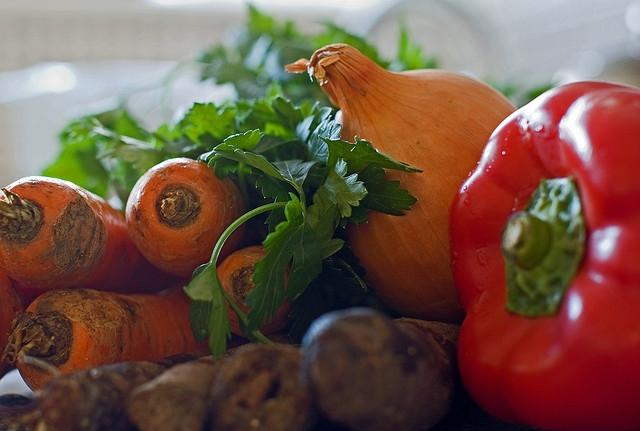bell pepper: (446, 80, 640, 430)
carrot: (1, 280, 212, 392), (0, 176, 184, 293), (126, 156, 246, 276), (216, 246, 294, 338), (0, 271, 51, 380)
onion: (284, 42, 519, 326)
potato: (300, 307, 502, 430), (123, 343, 258, 431), (210, 343, 328, 431), (34, 360, 168, 431)
